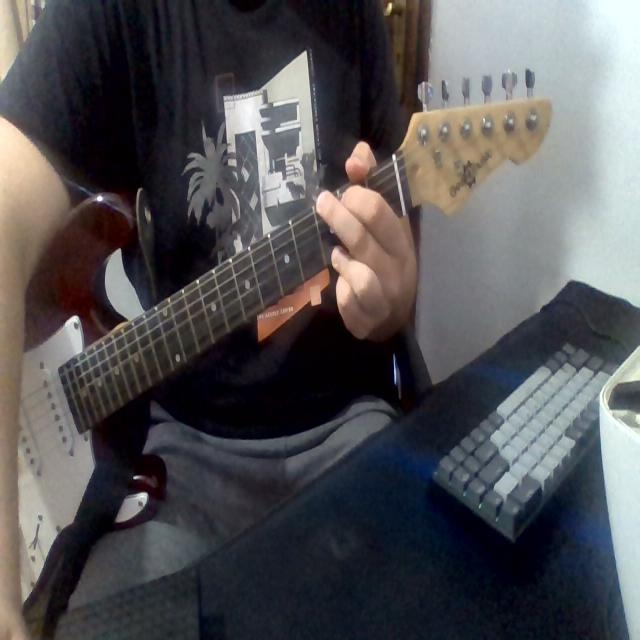G: (307, 185, 421, 340)
